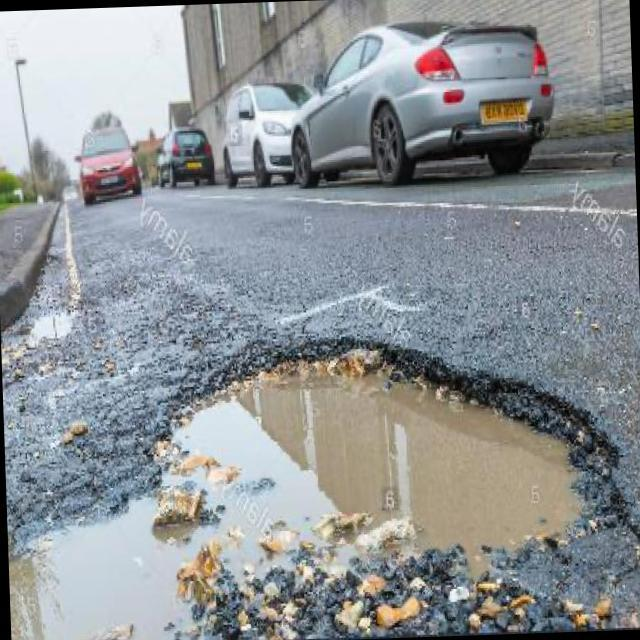Pothole: (8, 366, 640, 640)
